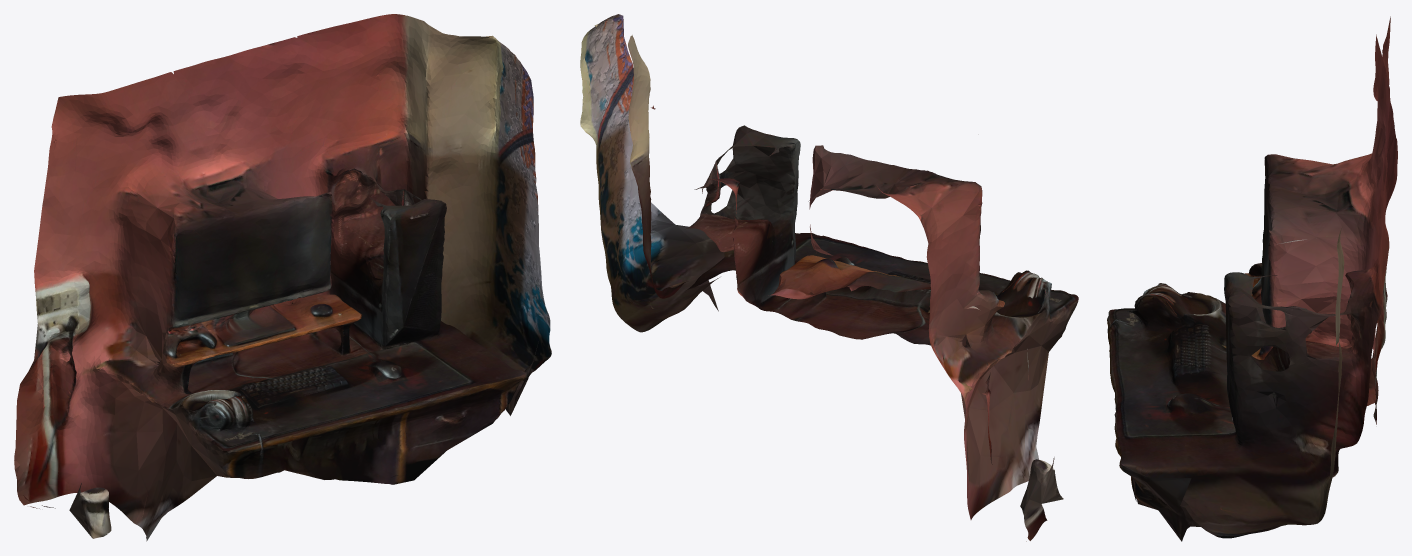
File: soham_real_desk.glb
3 renders of one model, left to right at view 1: azimuth 30°, elevation 25°; view 2: azimuth 150°, elevation 25°; view 3: azimuth 270°, elevation 25°, orthographic. The views are drawn at different scales.
Bounding box in the file's own units: 1.4 × 1.13 × 0.7224.
1 material, 1 textured.
